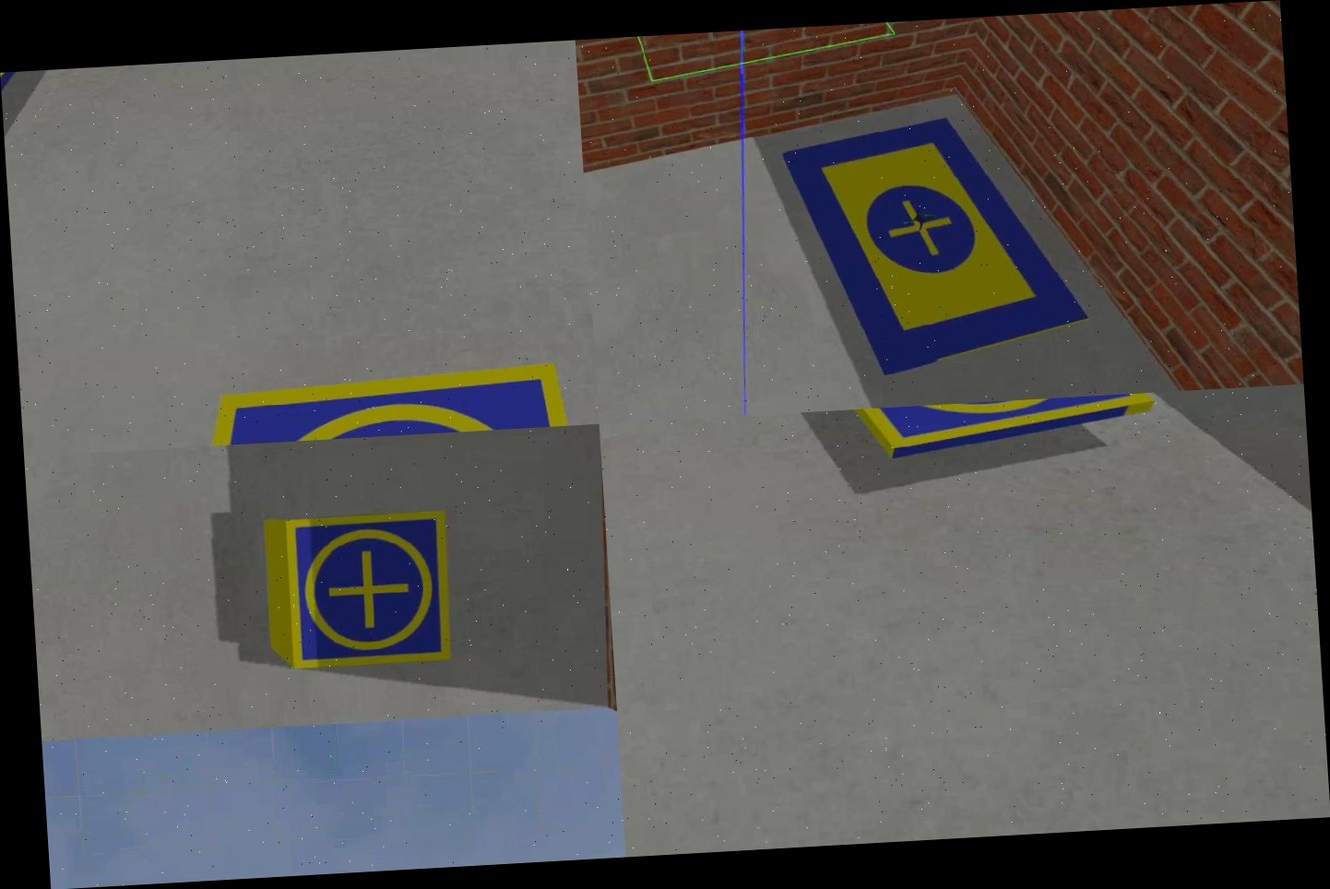large_base: (775, 106, 1098, 387)
small_base: (277, 505, 457, 675), (830, 393, 1158, 468)
